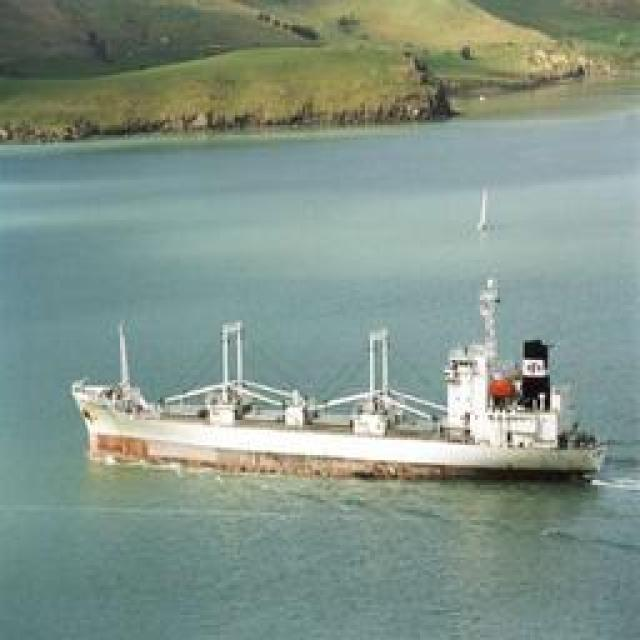ship2: (67, 272, 616, 496)
